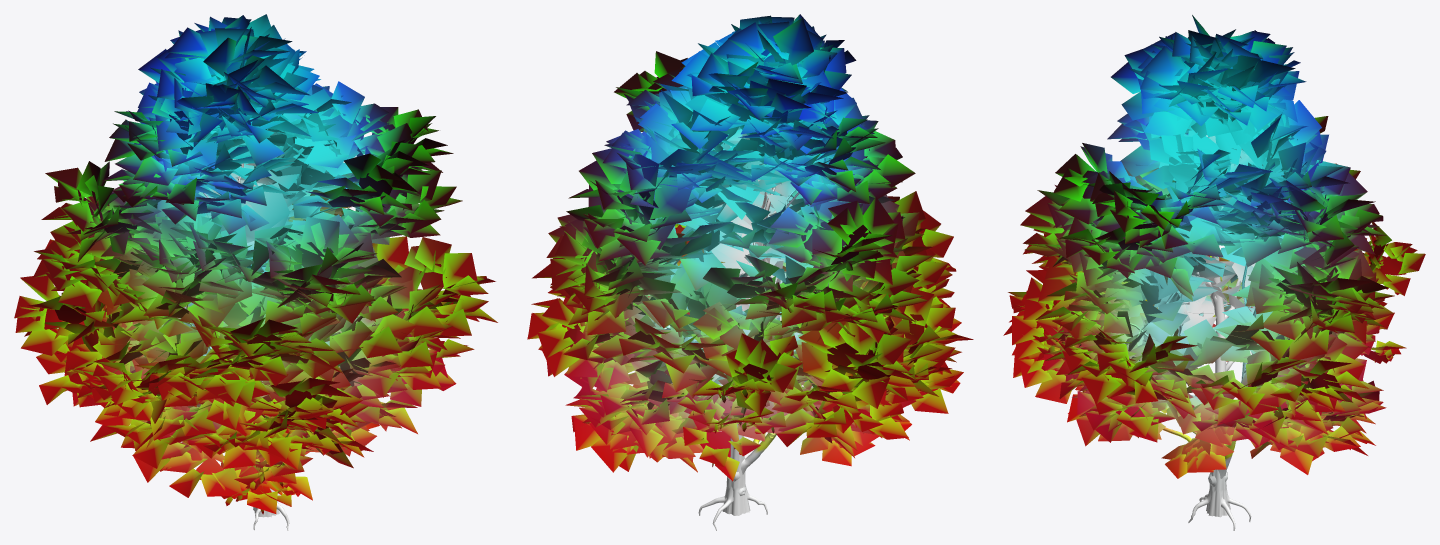
The model's file is arden_forest_maple_01_green.fbx.
3 renders of one model, left to right at view 1: azimuth 30°, elevation 25°; view 2: azimuth 150°, elevation 25°; view 3: azimuth 270°, elevation 25°, orthographic. The views are drawn at different scales.
Parts seen in each view (by area): view 1: arden_forest_maple_01_green_leaves, arden_forest_maple_01_green_bark; view 2: arden_forest_maple_01_green_leaves, arden_forest_maple_01_green_bark; view 3: arden_forest_maple_01_green_leaves, arden_forest_maple_01_green_bark.
Part boxes in pixels (<box>): arden_forest_maple_01_green_leaves: <box>14,14,497,514</box>; arden_forest_maple_01_green_bark: <box>81,158,409,530</box>; arden_forest_maple_01_green_leaves: <box>527,14,973,481</box>; arden_forest_maple_01_green_bark: <box>666,157,867,530</box>; arden_forest_maple_01_green_leaves: <box>1003,15,1425,478</box>; arden_forest_maple_01_green_bark: <box>1128,231,1289,530</box>.
Size of the model in its own units: 13.54 by 13.05 by 16.41.
